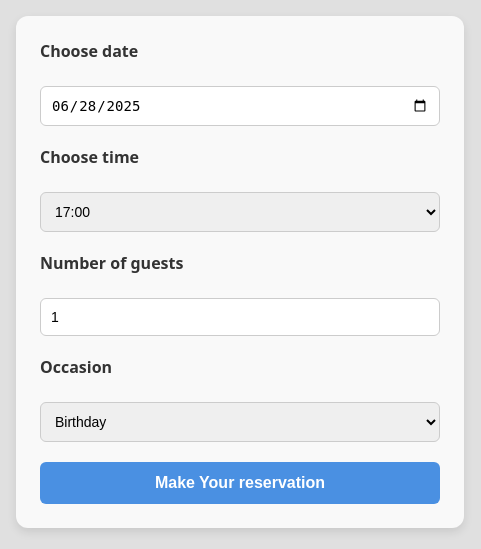
Test: BookingForm Component › form is invalid with incorrect guests
Type "0" into the number field labelled "Number of guests". click: x=240, y=317
box: [40,298,440,336]
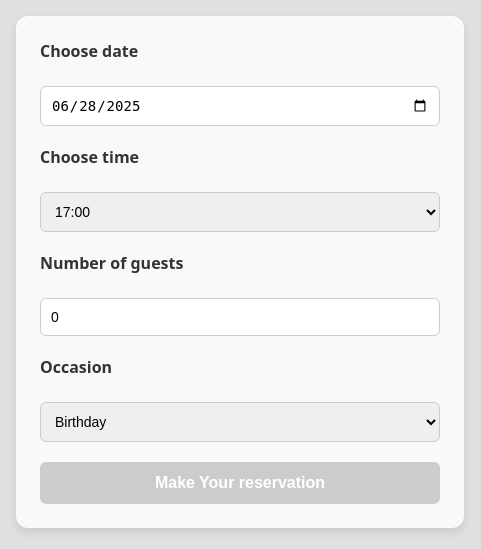
Now the button showing "Make Your reservation" is disabled, box [40,462,440,504]
